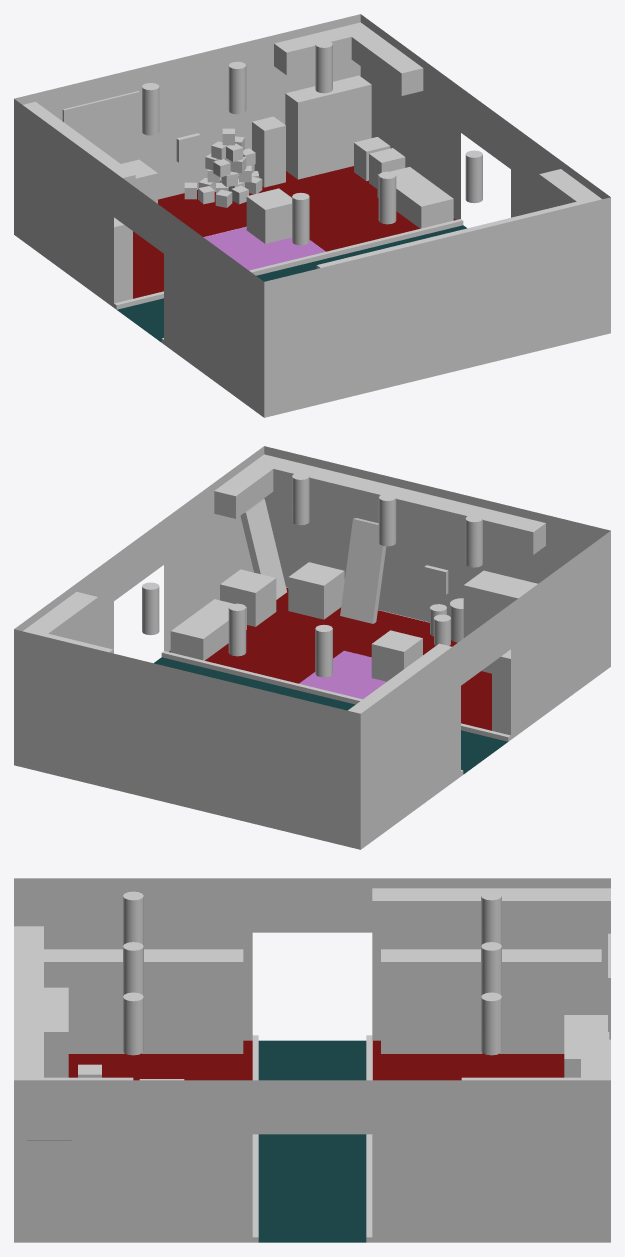
Rendered from Blocking.fbx.
The picture shows the model from 3 angles, top to bottom: view 1: azimuth 30°, elevation 25°; view 2: azimuth 150°, elevation 25°; view 3: azimuth 270°, elevation 25°; orthographic projection. The views are drawn at different scales.
Parts seen in each view (by area): view 1: sm_Estanteria04, sm_Corcho, sm_CeilingShelf03, sm_PrensaBasura01, sm_CeilingShelf02, sm_CeilingShelf05, sm_CeilingShelf07, sm_CeilingShelf06, sm_PaintMachine, sm_WaterMachine, sm_CeilingShelf04, sm_MapWall90 (+105 smaller); view 2: sm_handstairs00, sm_CeilingShelf07, sm_CeilingShelf05, sm_CeilingShelf06, sm_VentanasNieto, sm_WorkTable01, sm_PrensaBasura00, sm_CeilingShelf04, sm_CeilingShelf02, sm_handstairs01, sm_RuedasNieto, sm_MapWall33 (+99 smaller); view 3: sm_Estanteria02, sm_Estanteria01, sm_Estanteria03, sm_Estanteria00, sm_CeilingShelf01, sm_CeilingShelf00, sm_CeilingShelf03, sm_MapWall57, sm_MapWall56, sm_MapWall05, sm_MapWall25, sm_MapWall12 (+79 smaller).
Boxes of the visible parts, x1,y1,x2,y2 form: sm_Estanteria04: (285, 75, 371, 179); sm_Corcho: (62, 91, 139, 147); sm_CeilingShelf03: (351, 31, 423, 95); sm_PrensaBasura01: (377, 167, 453, 228); sm_CeilingShelf02: (274, 22, 372, 75); sm_CeilingShelf05: (490, 201, 589, 254); sm_CeilingShelf07: (316, 244, 415, 296); sm_CeilingShelf06: (404, 223, 502, 275); sm_PaintMachine: (246, 188, 291, 243); sm_WaterMachine: (252, 116, 285, 187); sm_CeilingShelf04: (539, 169, 610, 233); sm_MapWall90: (524, 298, 567, 354); sm_handstairs00: (340, 518, 386, 623); sm_CeilingShelf07: (446, 502, 545, 554); sm_CeilingShelf05: (273, 459, 372, 512); sm_CeilingShelf06: (360, 481, 458, 533); sm_VentanasNieto: (288, 562, 344, 619); sm_WorkTable01: (463, 570, 537, 637); sm_PrensaBasura00: (170, 599, 246, 660); sm_CeilingShelf04: (214, 454, 285, 518); sm_CeilingShelf02: (14, 628, 113, 680); sm_handstairs01: (240, 499, 286, 599); sm_RuedasNieto: (220, 569, 276, 626); sm_MapWall33: (57, 730, 100, 786); sm_Estanteria02: (381, 949, 482, 1053); sm_Estanteria01: (142, 949, 243, 1053); sm_Estanteria03: (500, 949, 601, 1053); sm_Estanteria00: (44, 949, 124, 1053); sm_CeilingShelf01: (372, 888, 491, 927); sm_CeilingShelf00: (491, 888, 610, 927); sm_CeilingShelf03: (461, 1077, 580, 1117); sm_MapWall57: (252, 878, 312, 932); sm_MapWall56: (312, 878, 372, 932); sm_MapWall05: (73, 1188, 133, 1242); sm_MapWall25: (491, 1188, 551, 1242); sm_MapWall12: (252, 1080, 312, 1134).
Size of the model in its own units: 1601 by 726 by 2000.
